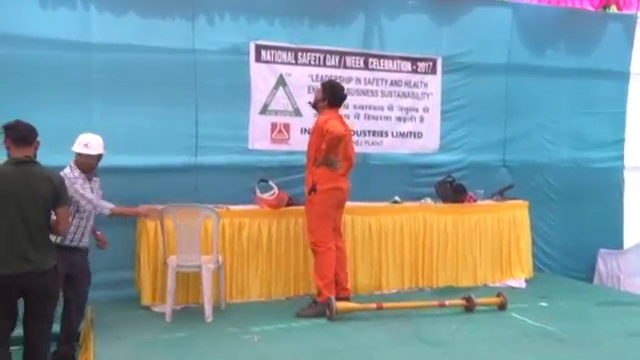helmet: (70, 131, 106, 158)
helmet_off: (1, 118, 41, 166), (308, 80, 347, 111)
helmet_on: (68, 129, 107, 174)
person: (52, 130, 148, 359), (1, 116, 68, 360), (305, 79, 356, 319)
